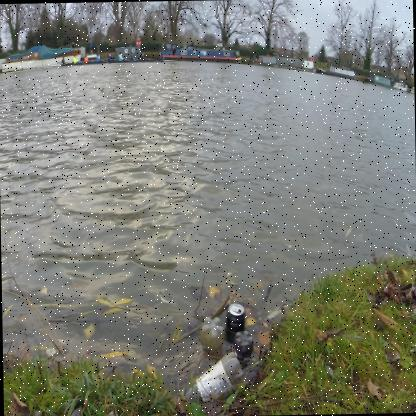Clear plastic bottle: (184, 352, 245, 404), (199, 316, 224, 349), (232, 330, 253, 359)
Drink can: (224, 303, 245, 332)
Pop tab: (232, 305, 238, 311)
